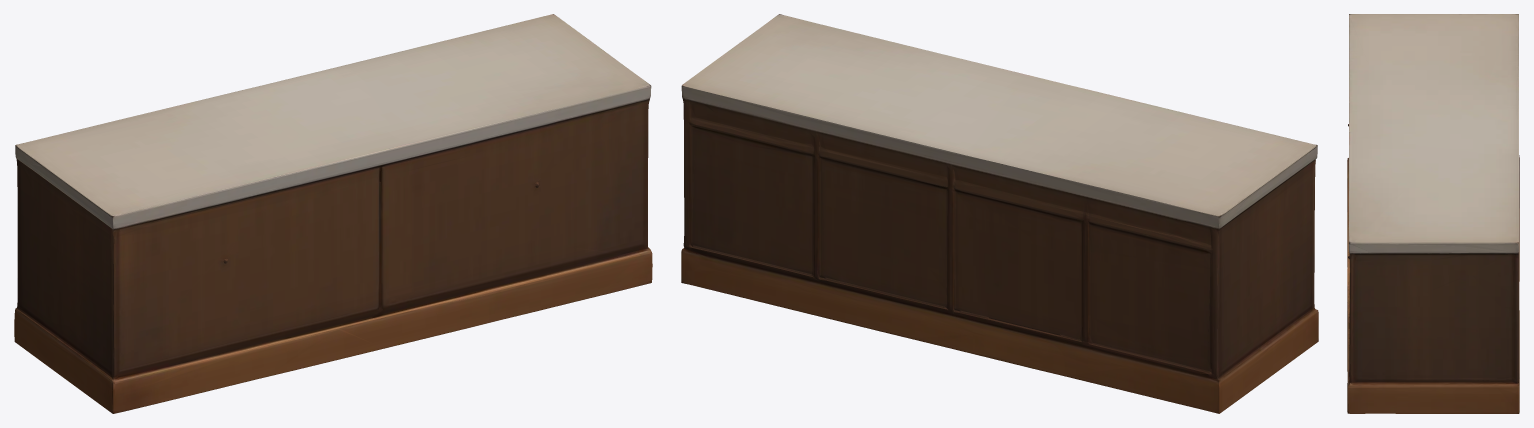
3 views of the same model, side by side, from view 1: azimuth 30°, elevation 25°; view 2: azimuth 150°, elevation 25°; view 3: azimuth 270°, elevation 25° (orthographic). The views are drawn at different scales.
Visible parts, largest first — view 1: geometry_0; view 2: geometry_0; view 3: geometry_0.
Boxes of the visible parts, <box> form: geometry_0: <box>14,14,652,413</box>; geometry_0: <box>681,14,1318,413</box>; geometry_0: <box>1347,14,1519,413</box>.
Bounding box in the file's own units: 1 × 0.3501 × 0.3187.
Materials: 1 (1 with a texture image).
